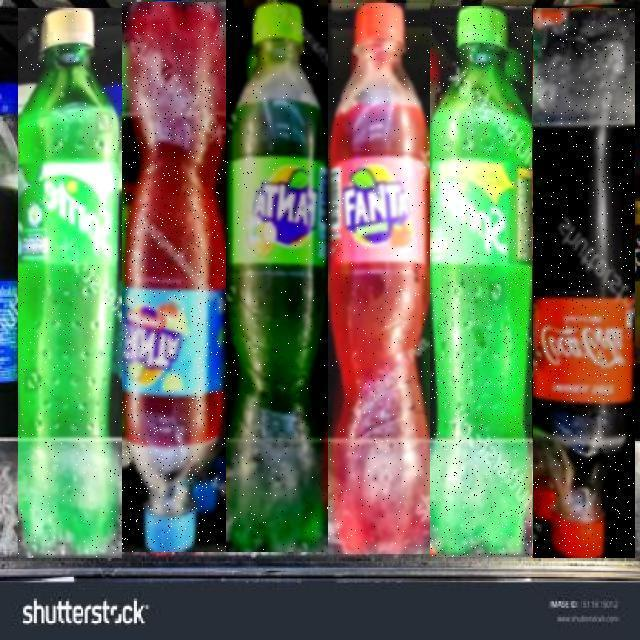Drinks: (122, 2, 226, 552), (18, 8, 122, 558), (226, 0, 328, 552), (431, 6, 533, 557), (328, 3, 430, 554), (533, 8, 635, 558)
